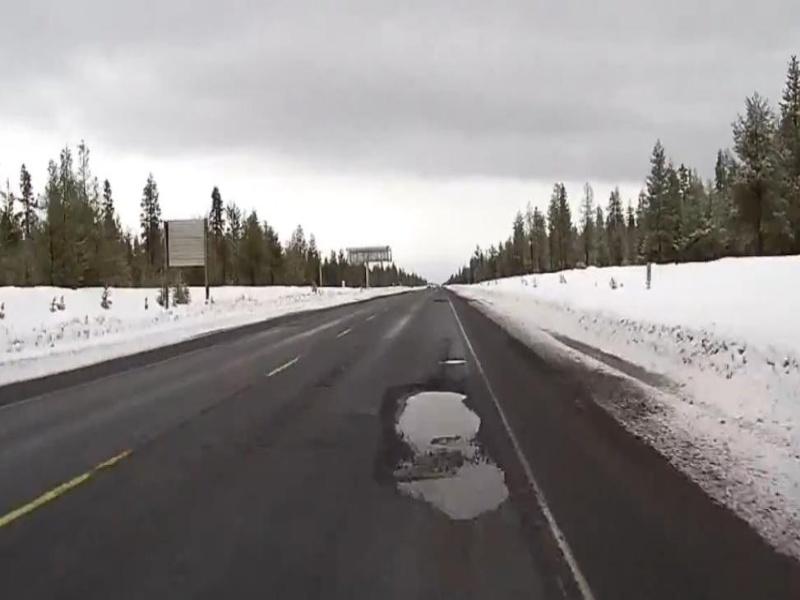pothole: (380, 440, 513, 520), (385, 383, 484, 448)
